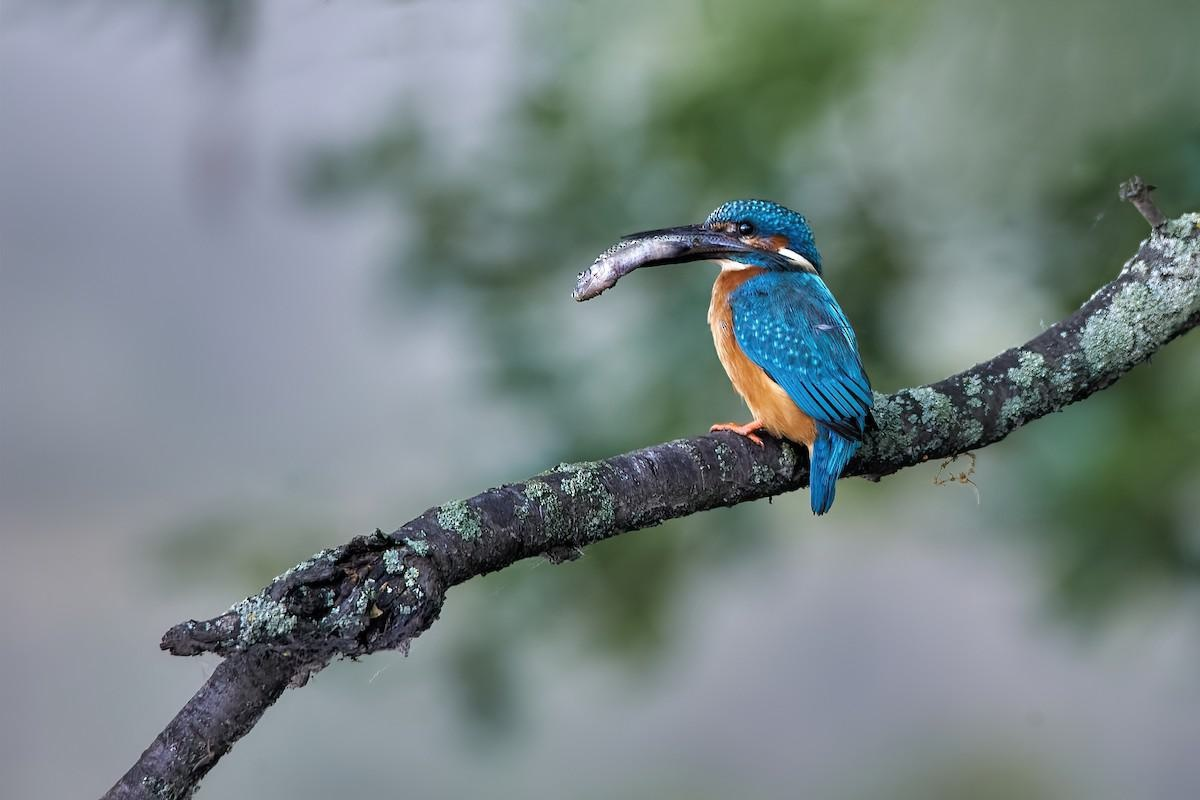kingfisher: (623, 196, 893, 512)
